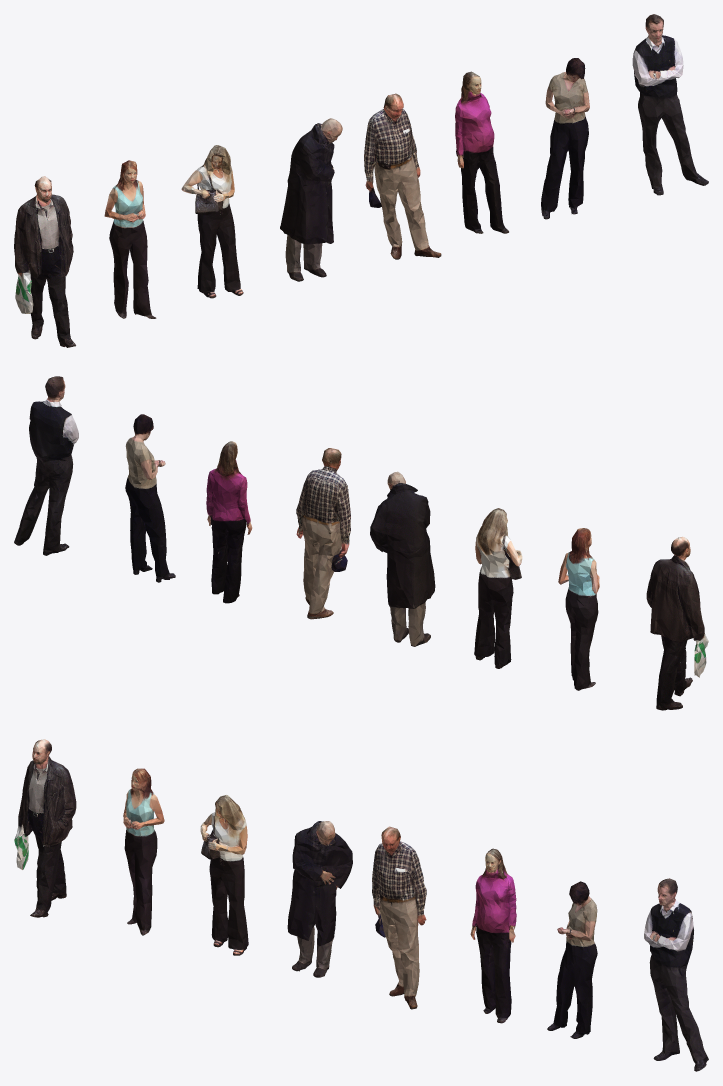
Rendered from LowPolyPeopleB.FBX.
3 views of the same model, one above another, from view 1: azimuth 30°, elevation 25°; view 2: azimuth 150°, elevation 25°; view 3: azimuth 330°, elevation 25° (orthographic).
Visible parts, largest first — view 1: lwpg0041, lwpg0045, lwpg0044, lwpg0048, lwpg0047, lwpg0043, lwpg0046, lwpg0042; view 2: lwpg0044, lwpg0041, lwpg0045, lwpg0048, lwpg0043, lwpg0046, lwpg0047, lwpg0042; view 3: lwpg0044, lwpg0041, lwpg0048, lwpg0045, lwpg0046, lwpg0043, lwpg0047, lwpg0042.
Part boxes in pixels (x1,y1,x2,y2): lwpg0041: (14,176,75,347); lwpg0045: (364,93,441,259); lwpg0044: (280,118,342,281); lwpg0048: (632,14,708,195); lwpg0047: (541,58,589,219); lwpg0043: (181,145,243,298); lwpg0046: (455,71,508,233); lwpg0042: (104,160,156,318); lwpg0044: (370,471,435,646); lwpg0041: (646,536,708,710); lwpg0045: (296,448,350,619); lwpg0048: (14,376,78,555); lwpg0043: (474,508,522,668); lwpg0046: (206,441,252,603); lwpg0047: (125,414,175,582); lwpg0042: (558,528,599,690); lwpg0044: (287,821,352,977); lwpg0041: (14,739,76,917); lwpg0048: (644,878,708,1071); lwpg0045: (372,826,426,1009); lwpg0046: (470,848,516,1023); lwpg0043: (200,795,248,955); lwpg0047: (547,881,597,1038); lwpg0042: (123,768,164,935).
Size of the model in its own units: 775 by 190 by 71.35.
Materials: 8 (8 with a texture image).
